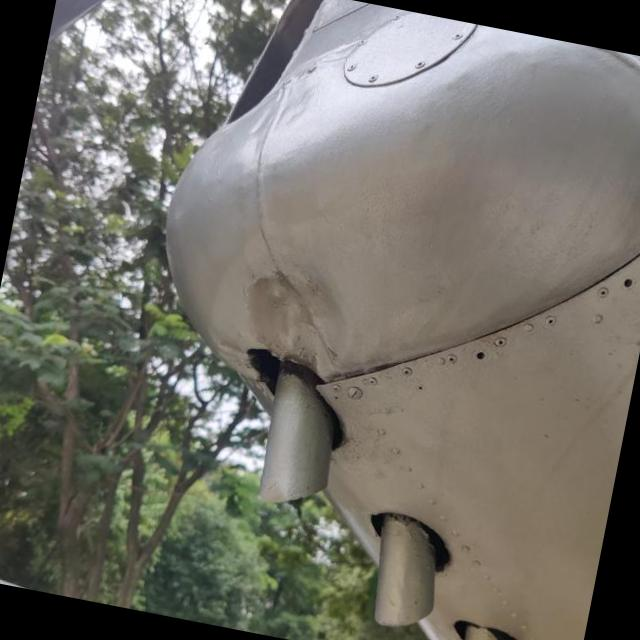Dent: (209, 246, 362, 382)
